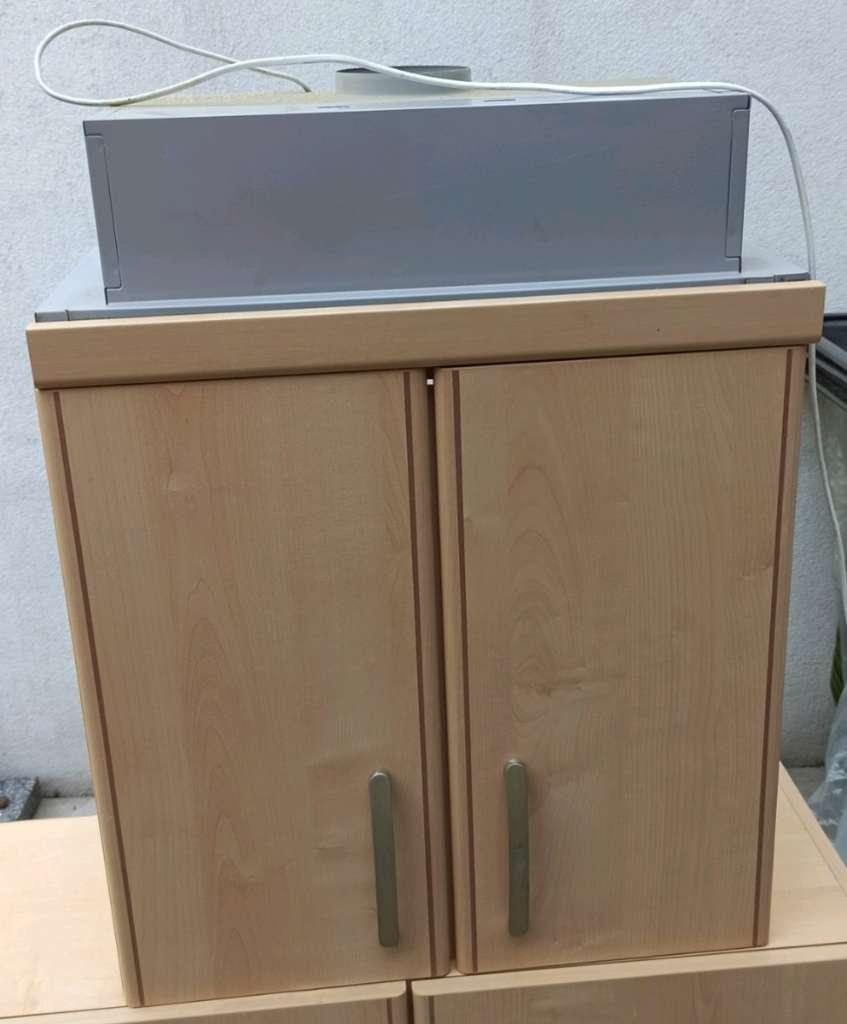cabinet_door: (108, 378, 432, 995), (467, 364, 774, 967)
handle: (357, 763, 411, 969), (491, 749, 540, 947)
